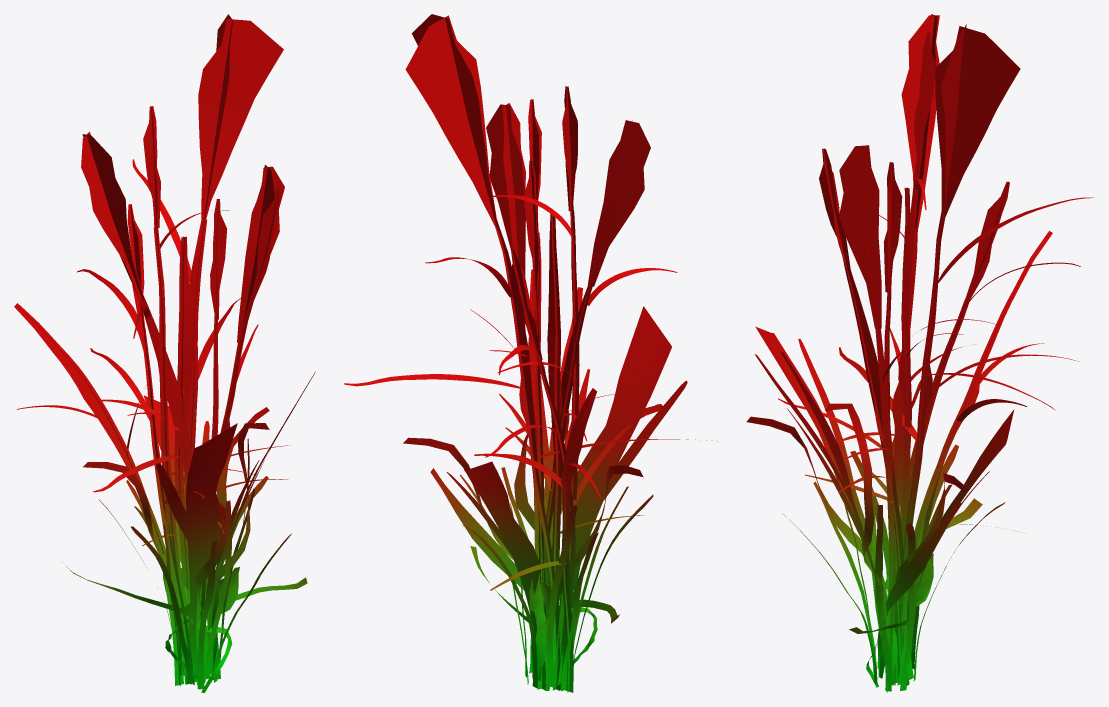
Rendered from sltiN_Var4_LOD0.fbx.
The picture shows the model from 3 angles, left to right: view 1: azimuth 30°, elevation 25°; view 2: azimuth 150°, elevation 25°; view 3: azimuth 270°, elevation 25°; orthographic projection. The views are drawn at different scales.
Visible parts, largest first — view 1: _d187_Var4_LOD0; view 2: _d187_Var4_LOD0; view 3: _d187_Var4_LOD0.
Part boxes in pixels (x1,y1,x2,y2): _d187_Var4_LOD0: [14, 14, 315, 692]; _d187_Var4_LOD0: [344, 14, 717, 692]; _d187_Var4_LOD0: [746, 14, 1094, 692].
Size of the model in its own units: 18.04 by 43.81 by 19.83.
